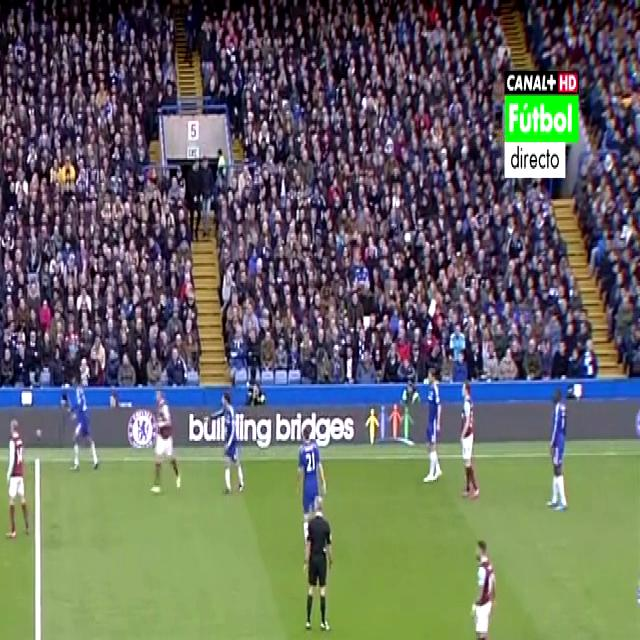referee: (298, 489, 335, 640)
soccer-player: (144, 378, 184, 503), (542, 384, 576, 514), (461, 533, 501, 640), (216, 383, 251, 504), (64, 366, 102, 477), (0, 409, 28, 547), (421, 362, 450, 488), (453, 382, 483, 501), (292, 421, 326, 525)
